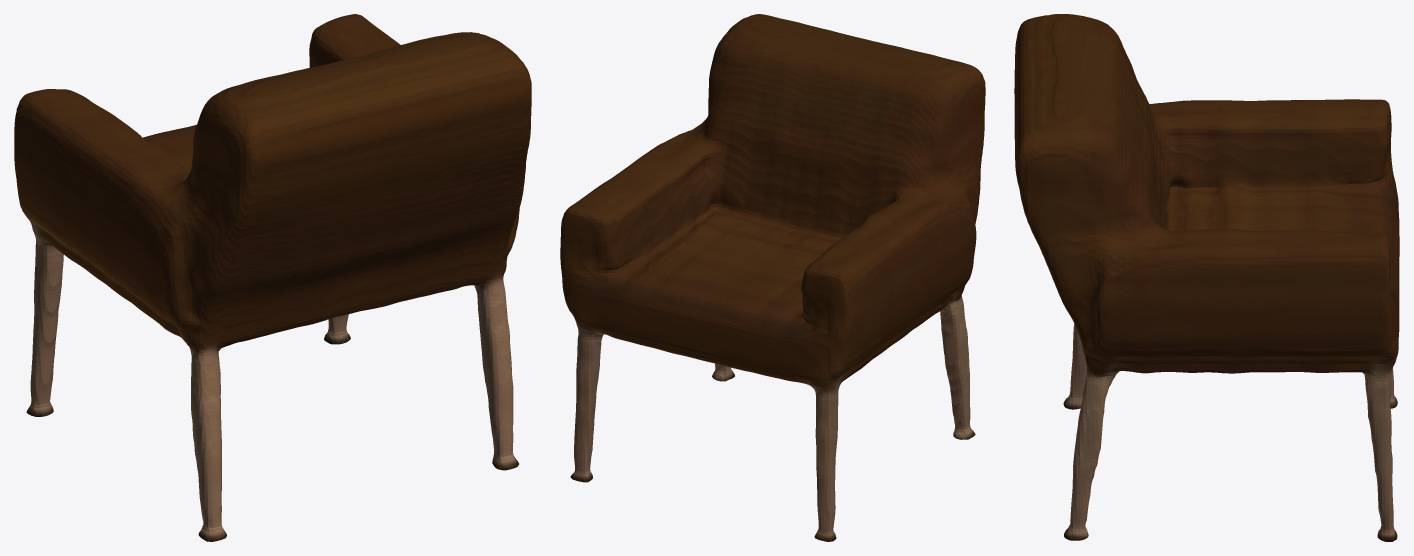
Rendered from brown_chair.glb.
3 views of the same model, side by side, from view 1: azimuth 30°, elevation 25°; view 2: azimuth 150°, elevation 25°; view 3: azimuth 270°, elevation 25° (orthographic). The views are drawn at different scales.
Parts seen in each view (by area): view 1: tmpo4sgvpq1.ply; view 2: tmpo4sgvpq1.ply; view 3: tmpo4sgvpq1.ply.
Part boxes in pixels (<box>): tmpo4sgvpq1.ply: <box>14,14,531,541</box>; tmpo4sgvpq1.ply: <box>560,14,985,541</box>; tmpo4sgvpq1.ply: <box>1014,14,1399,541</box>.
Bounding box in the file's own units: 1.68 × 1.98 × 1.72.
